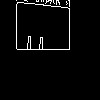H: (25, 25, 45, 74)
